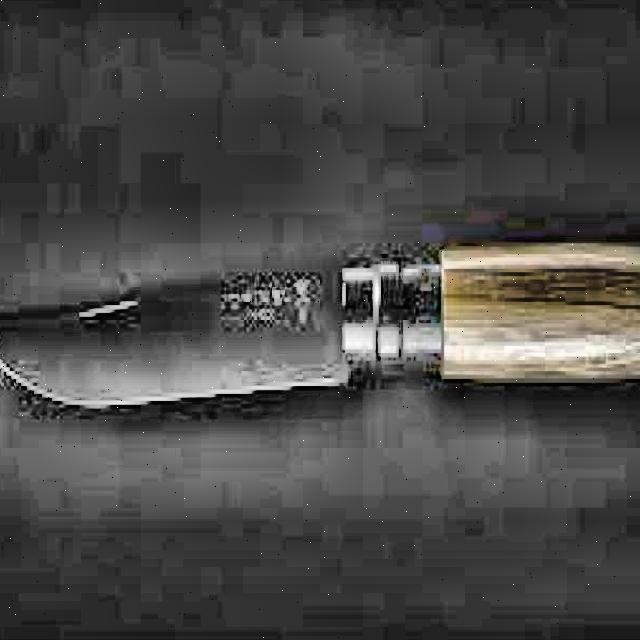knife: (0, 235, 640, 402)
